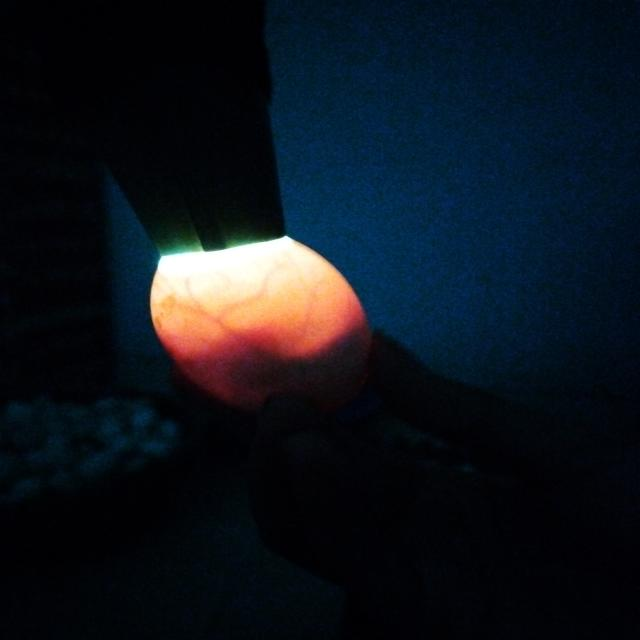Embriao: (191, 322, 376, 415)
